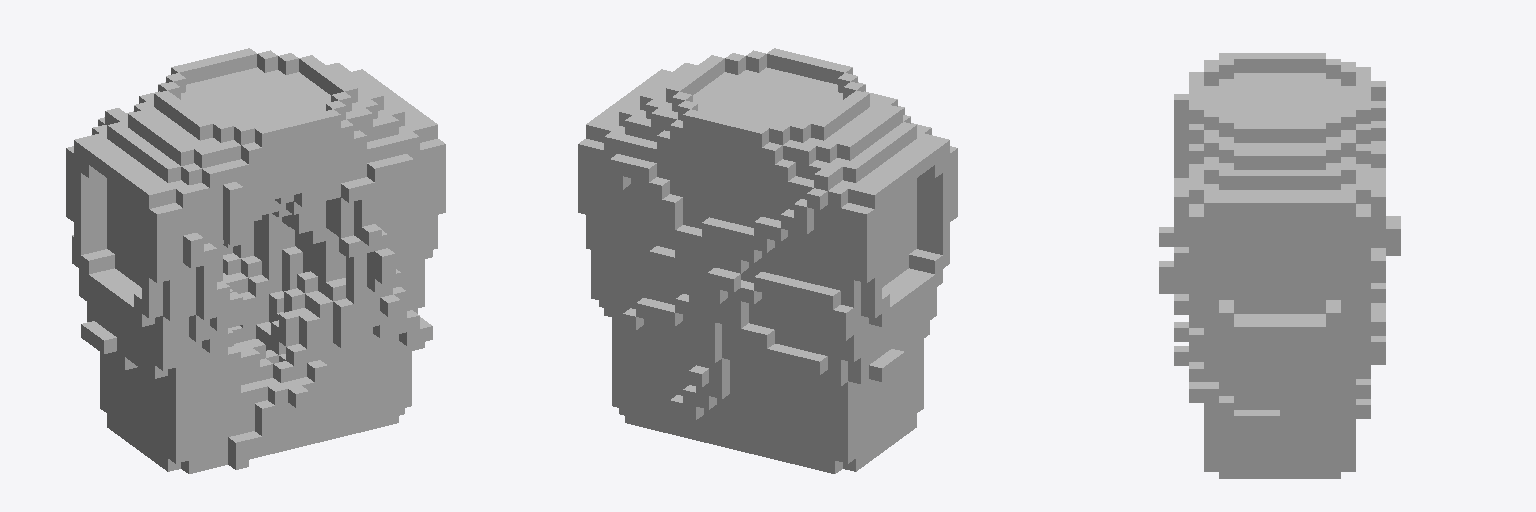
The model's file is Movement Monster-7-Cuerpo.obj.
3 renders of one model, left to right at view 1: azimuth 30°, elevation 25°; view 2: azimuth 150°, elevation 25°; view 3: azimuth 270°, elevation 25°, orthographic.
Parts seen in each view (by area): view 1: Cuerpo; view 2: Cuerpo; view 3: Cuerpo.
Part boxes in pixels (bbox=[...]): Cuerpo: bbox=[66, 48, 445, 473]; Cuerpo: bbox=[578, 48, 957, 473]; Cuerpo: bbox=[1159, 53, 1400, 478].
Size of the model in its own units: 2.2 by 2.4 by 1.6.